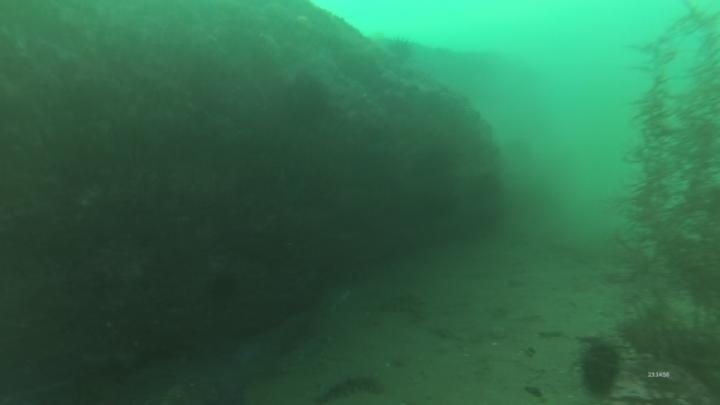echinus: (573, 336, 627, 401), (204, 269, 242, 304)
holothurian: (312, 371, 385, 404), (363, 288, 428, 320)
